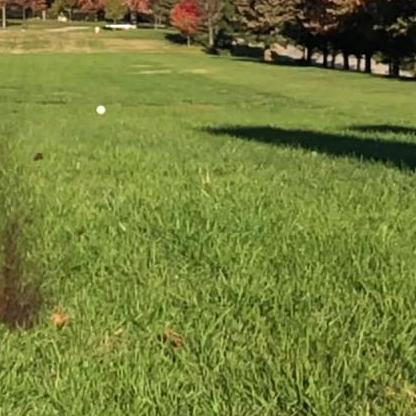golfball: (93, 100, 107, 114)
